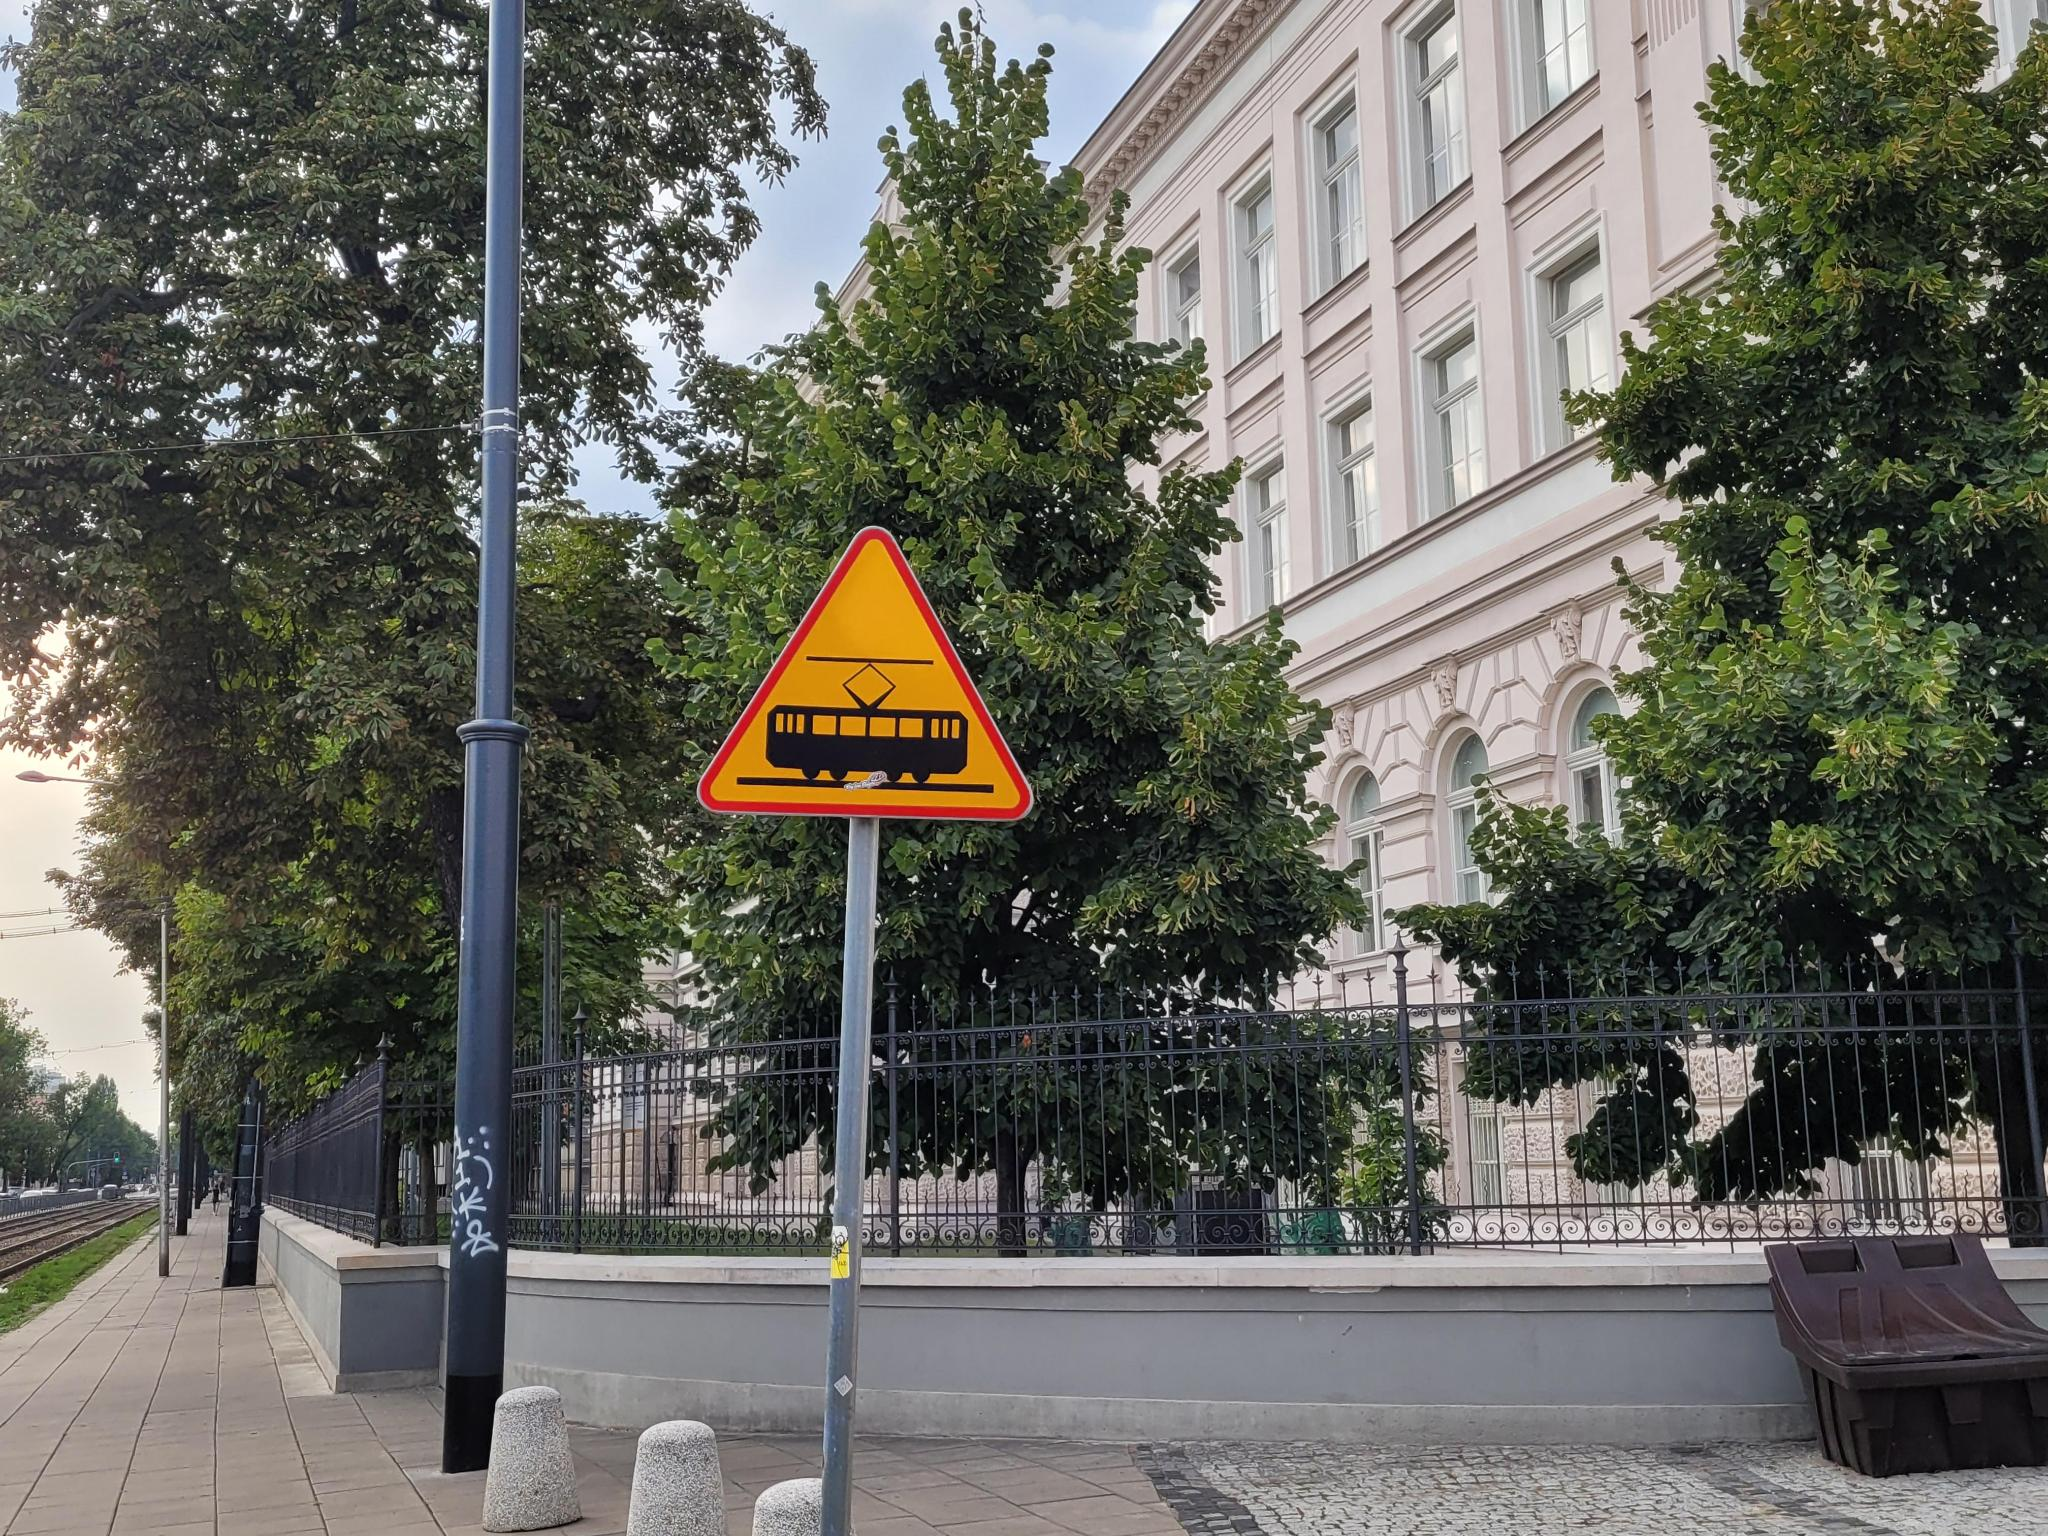warning: (695, 524, 1035, 822)
